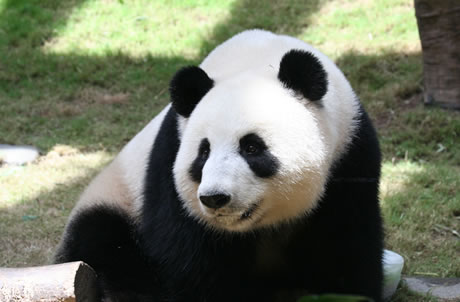panda: (50, 26, 388, 302)
